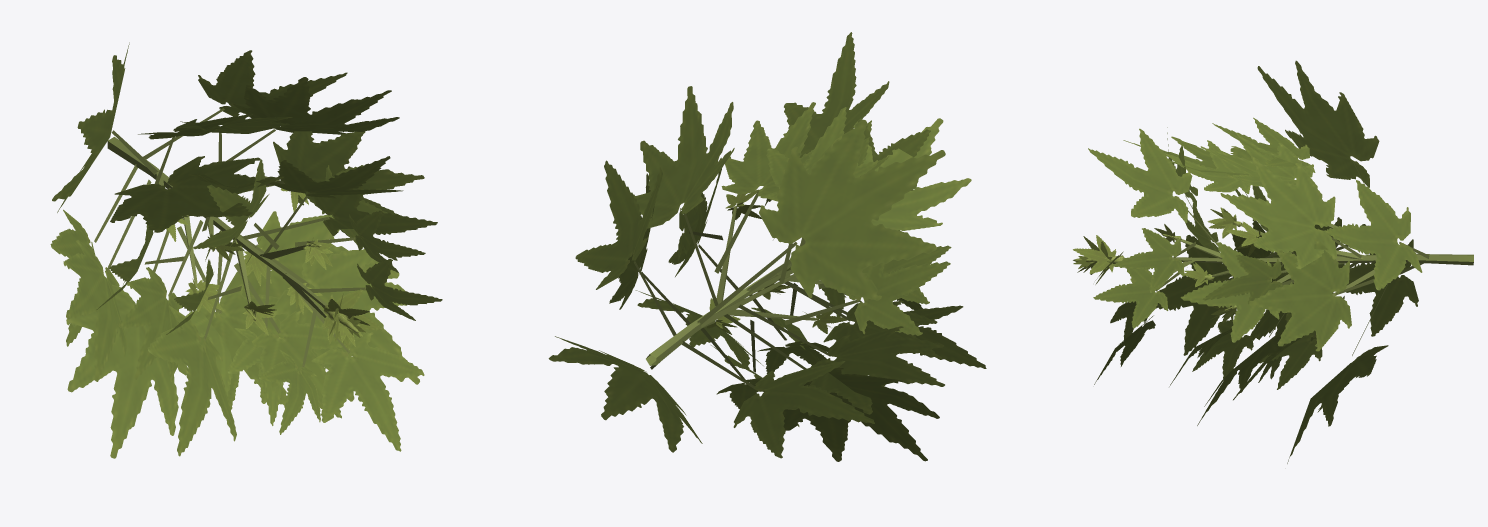
File: p_hybrid_preflower_c1_cards.obj
3 renders of one model, left to right at view 1: azimuth 30°, elevation 25°; view 2: azimuth 150°, elevation 25°; view 3: azimuth 270°, elevation 25°, orthographic. The views are drawn at different scales.
Size of the model in its own units: 1.28 by 1.25 by 1.16.
Materials: 1 (1 with a texture image).
